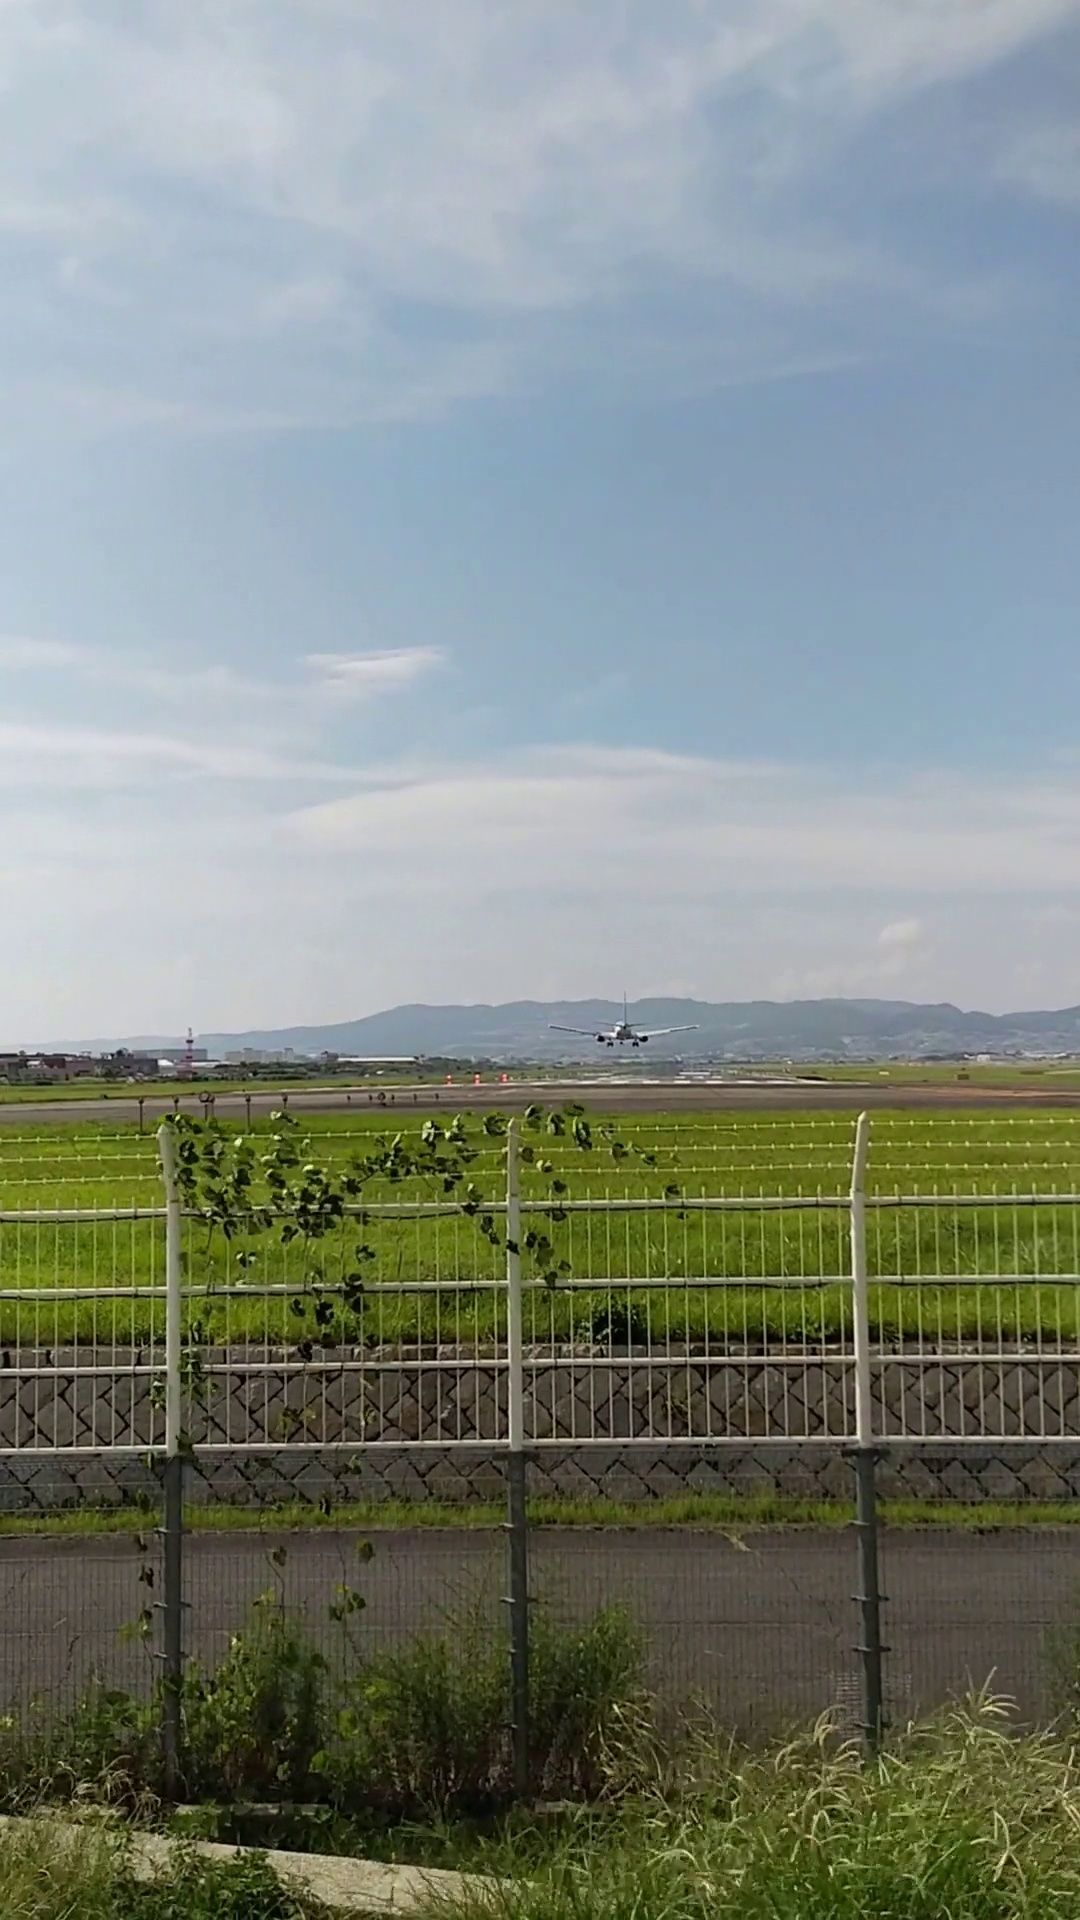plane: (547, 988, 699, 1047)
